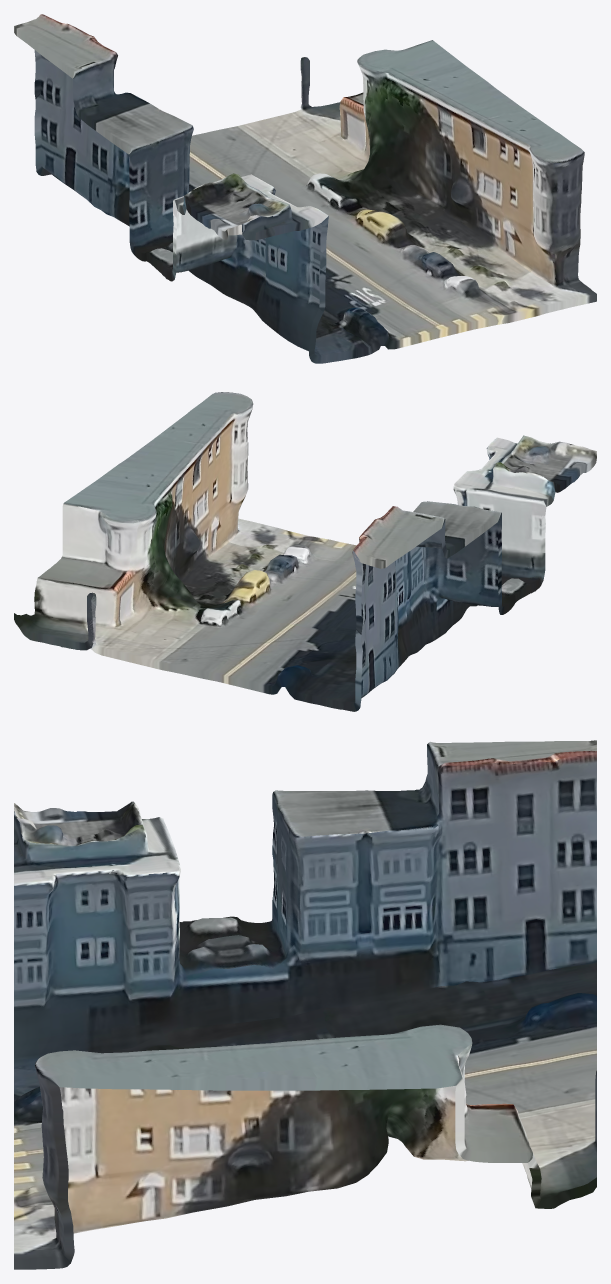
Rendered from z20-167728-405194-h0-yup-uvflip-v3-world.glb.
The picture shows the model from 3 angles, top to bottom: view 1: azimuth 30°, elevation 25°; view 2: azimuth 150°, elevation 25°; view 3: azimuth 270°, elevation 25°; orthographic projection. The views are drawn at different scales.
Bounding box in the file's own units: 30.16 × 16.8 × 30.32.
Materials: 1 (1 with a texture image).
